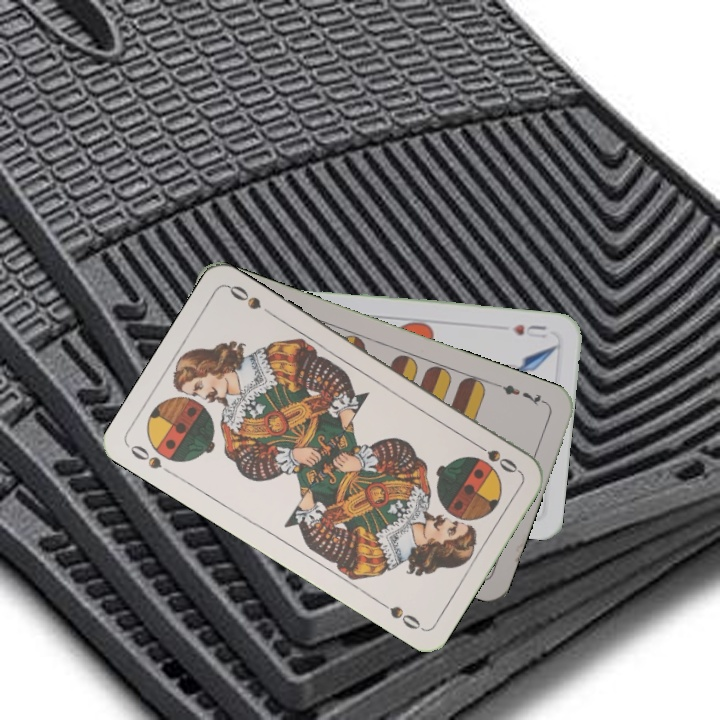E7: (492, 379, 550, 408)
HU: (508, 320, 550, 341)
SO: (126, 440, 178, 479), (469, 438, 522, 476)
